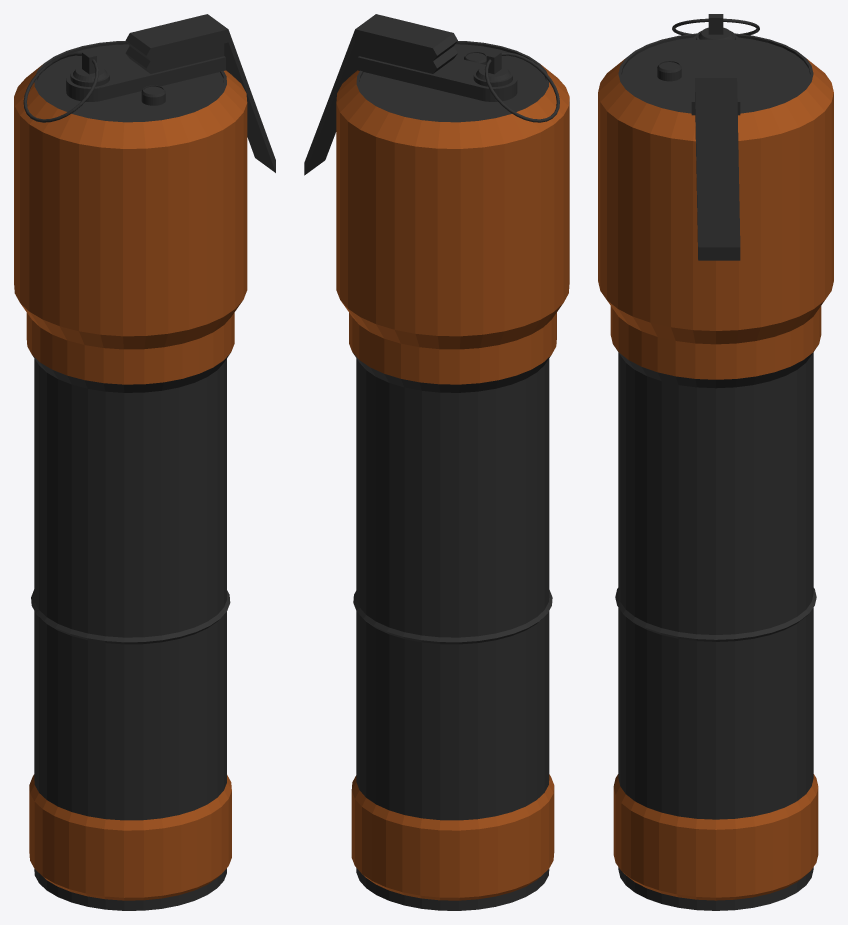
Rendered from grenade.fbx.
The picture shows the model from 3 angles, left to right: view 1: azimuth 30°, elevation 25°; view 2: azimuth 150°, elevation 25°; view 3: azimuth 270°, elevation 25°; orthographic projection.
Parts seen in each view (by area): view 1: Grenade; view 2: Grenade; view 3: Grenade.
Part boxes in pixels (<box>): Grenade: <box>14,14,275,910</box>; Grenade: <box>304,14,569,910</box>; Grenade: <box>598,14,833,910</box>.
Bounding box in the file's own units: 5.68 × 18.88 × 4.83.
